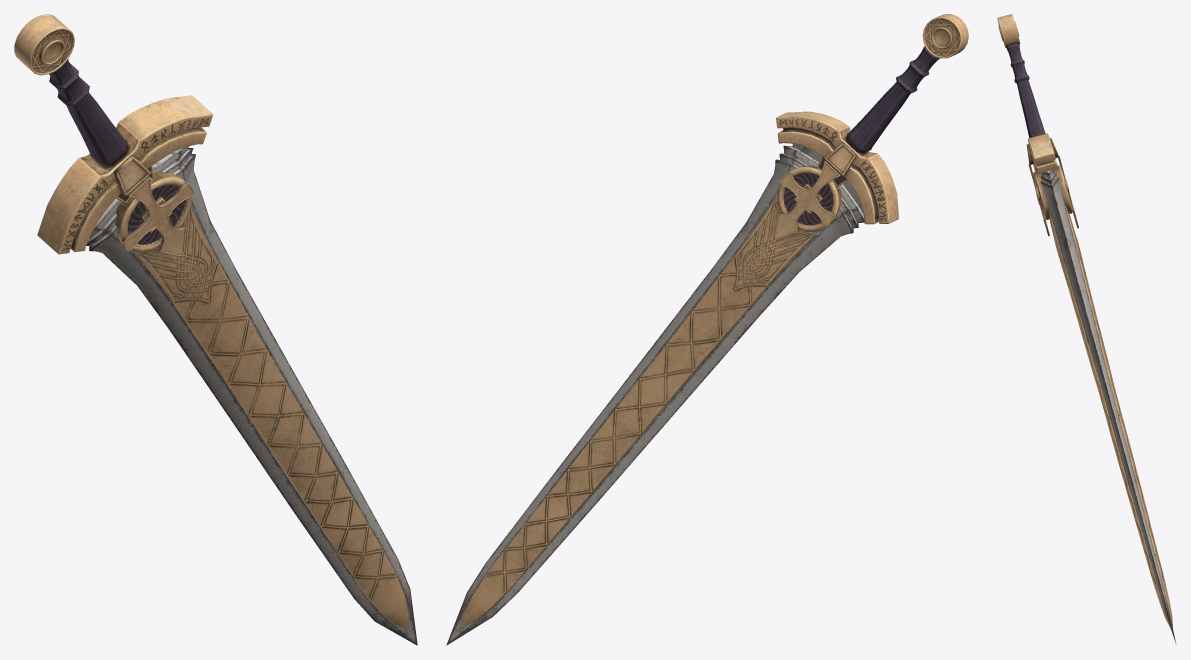
3 views of the same model, side by side, from view 1: azimuth 30°, elevation 25°; view 2: azimuth 150°, elevation 25°; view 3: azimuth 270°, elevation 25° (orthographic). The views are drawn at different scales.
Visible parts, largest first — view 1: Plate_low, Sword_low, Handle02_low, Handle01_low, CylinderSmall_low, CylinderBig_low, Cross_low, Handle03_low; view 2: Plate_low, Sword_low, Handle02_low, Handle01_low, CylinderBig_low, Cross_low, CylinderSmall_low; view 3: Sword_low, Plate_low, Handle01_low, Handle02_low, CylinderBig_low, CylinderSmall_low, Cross_low.
Part boxes in pixels (x1,y1,x2,y2): Plate_low: (134,206,408,630); Sword_low: (86,146,417,645); Handle02_low: (37,95,212,254); Handle01_low: (49,59,127,167); CylinderSmall_low: (14,14,74,75); CylinderBig_low: (115,171,191,252); Cross_low: (121,175,194,256); Handle03_low: (114,155,151,196); Plate_low: (459,197,815,629); Sword_low: (446,144,864,645); Handle02_low: (776,111,898,224); Handle01_low: (845,46,939,154); CylinderBig_low: (777,165,841,231); Cross_low: (774,161,840,239); CylinderSmall_low: (922,14,968,58); Sword_low: (1040,170,1176,644); Plate_low: (1049,205,1173,628); Handle01_low: (1006,43,1045,137); Handle02_low: (1028,133,1057,173); CylinderBig_low: (1033,165,1072,219); CylinderSmall_low: (997,14,1020,47); Cross_low: (1028,155,1078,236).
Size of the model in its own units: 5.76 by 8.69 by 2.9.
1 material, 1 textured.
